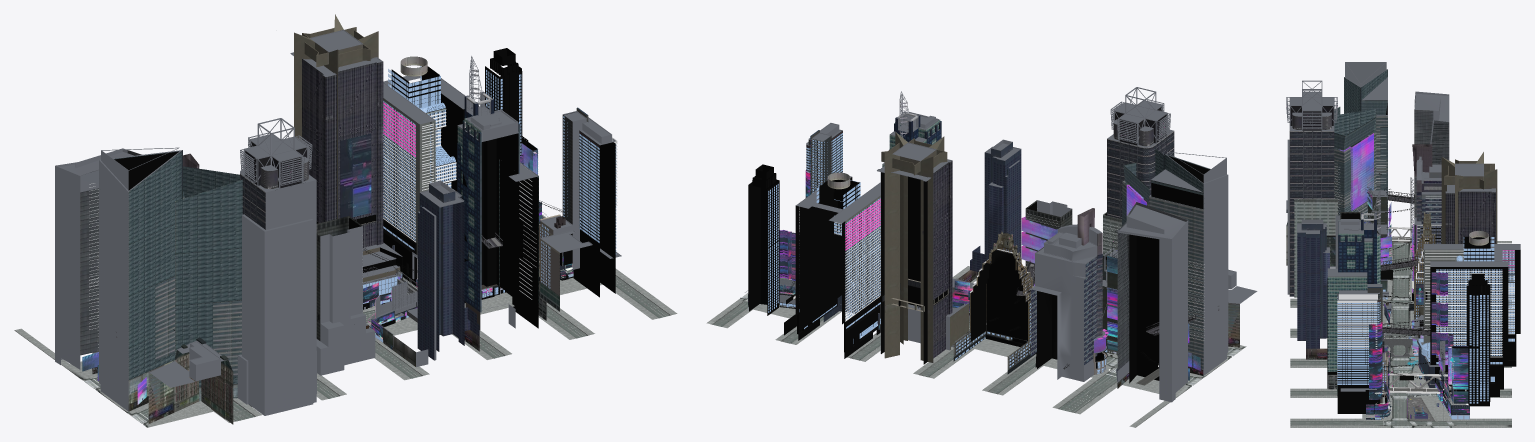
The model's file is city28-transformed.glb.
The picture shows the model from 3 angles, left to right: view 1: azimuth 30°, elevation 25°; view 2: azimuth 150°, elevation 25°; view 3: azimuth 270°, elevation 25°; orthographic projection. The views are drawn at different scales.
Visible parts, largest first — view 1: Object_14, Object_180, Object_26, Object_41, Object_32, Object_11, Plane.007, Object_186, Object_189; view 2: Object_14, Object_26, Object_180, Object_41, Object_32, Object_11, Plane.007, Object_186, Object_189; view 3: Object_180, Object_14, Object_26, Object_32, Object_41, Object_11, Plane.007, Cube.031, Object_186, Object_4, BézierCurve.062, Cube.046 (+1 smaller).
Part boxes in pixels (x1,y1,x2,y2): Object_14: (55,30,621,415); Object_180: (80,58,538,406); Object_26: (114,48,615,328); Object_41: (92,14,615,424); Object_32: (14,214,677,427); Object_11: (340,107,587,314); Plane.007: (89,112,617,347); Object_186: (82,245,417,404); Object_189: (368,102,415,329); Object_14: (740,87,1257,402); Object_26: (748,156,1209,383); Object_180: (882,111,1210,370); Object_41: (806,101,1239,388); Object_32: (706,266,1246,427); Object_11: (748,130,1189,343); Plane.007: (799,139,1204,340); Object_186: (823,250,1200,380); Object_189: (845,127,1164,250); Object_180: (1289,69,1495,371); Object_14: (1286,62,1520,427); Object_26: (1326,103,1520,418); Object_32: (1290,241,1511,427); Object_41: (1286,106,1514,403); Object_11: (1339,133,1469,418); Plane.007: (1330,135,1514,357); Cube.031: (1380,191,1430,335); Object_186: (1367,191,1447,406); Object_4: (1388,227,1451,389); BézierCurve.062: (1381,208,1447,381); Cube.046: (1383,334,1418,357).
Size of the model in its own units: 29.8 by 20.82 by 15.74.
Materials: 23 (21 with a texture image).
